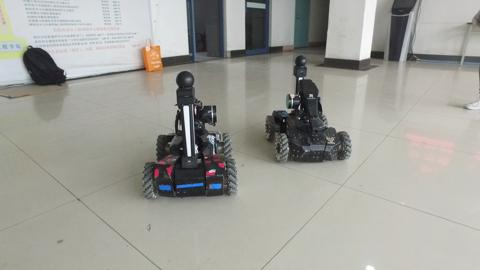chariot: (132, 70, 244, 203), (258, 52, 356, 169)
